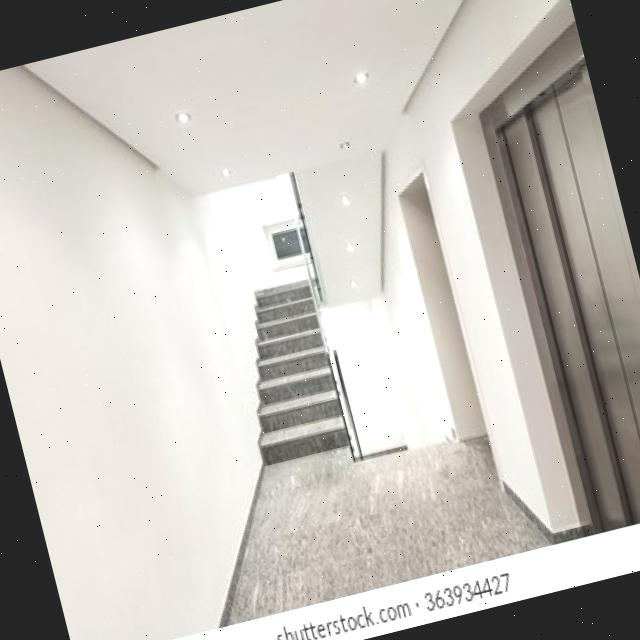stairs: (219, 273, 353, 467)
